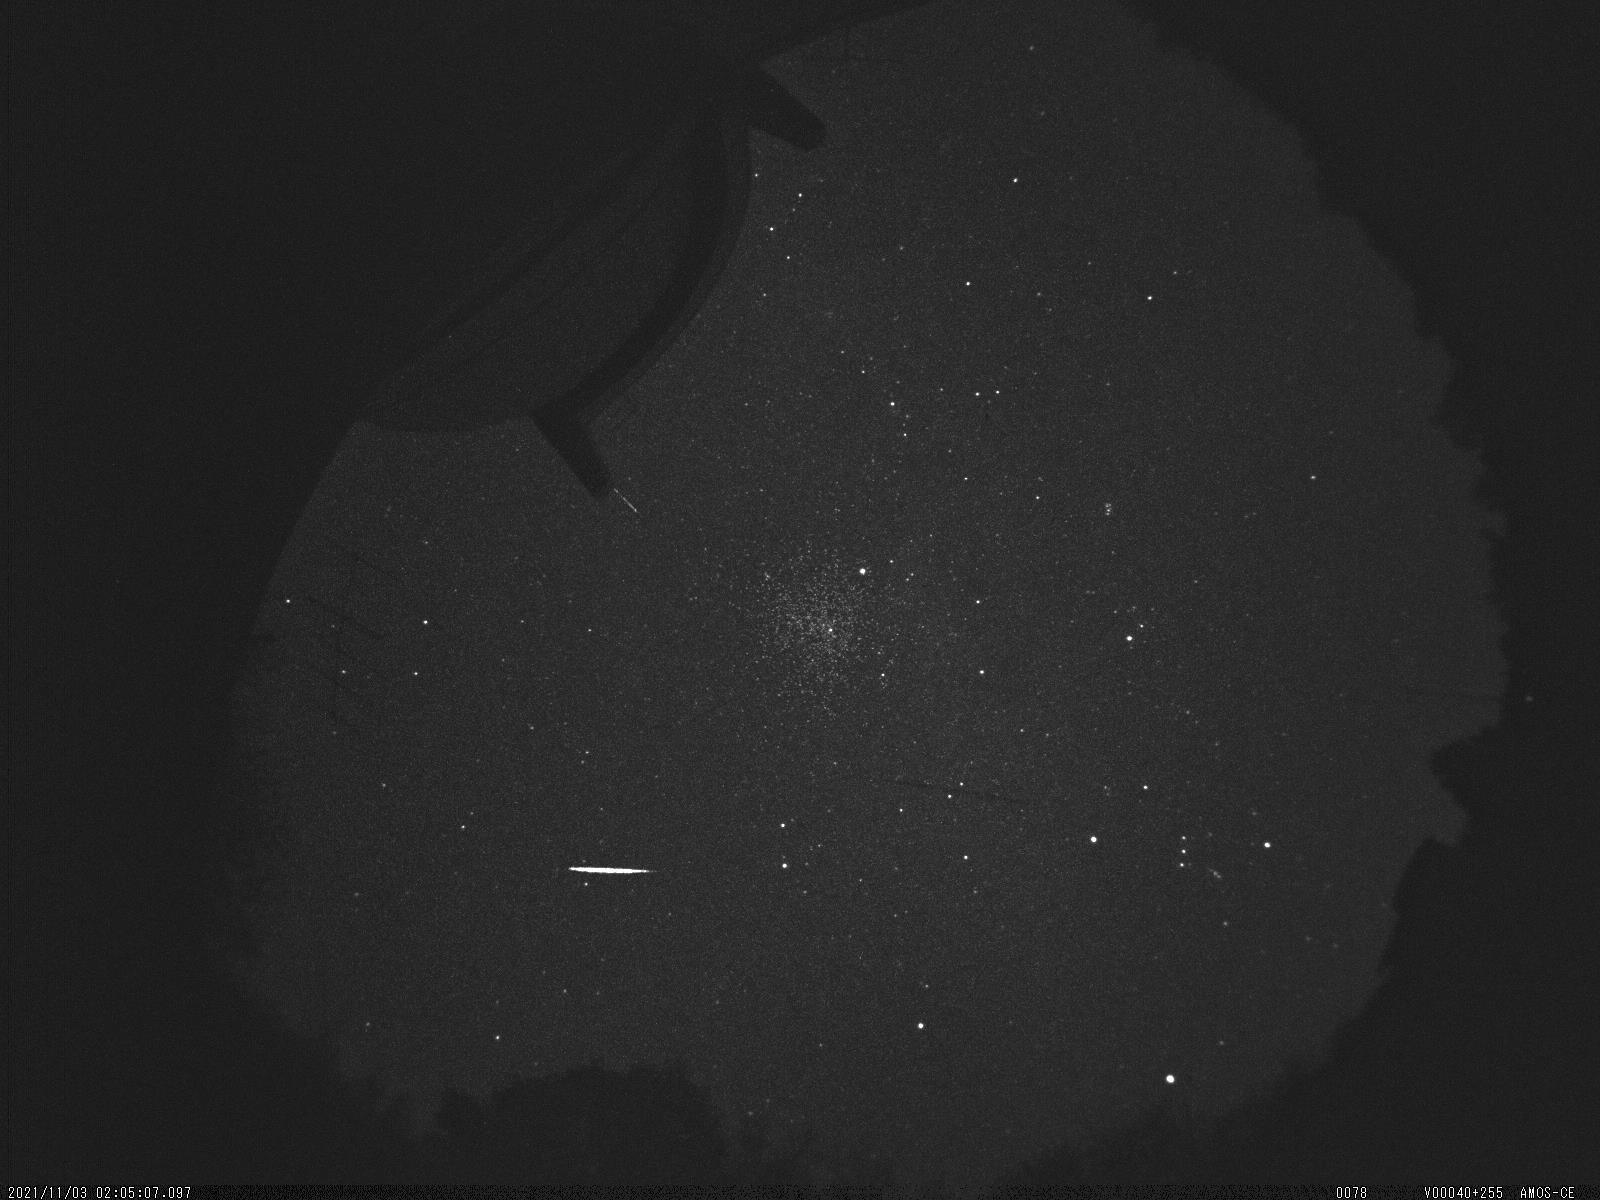Meteor: (558, 853, 661, 879)
